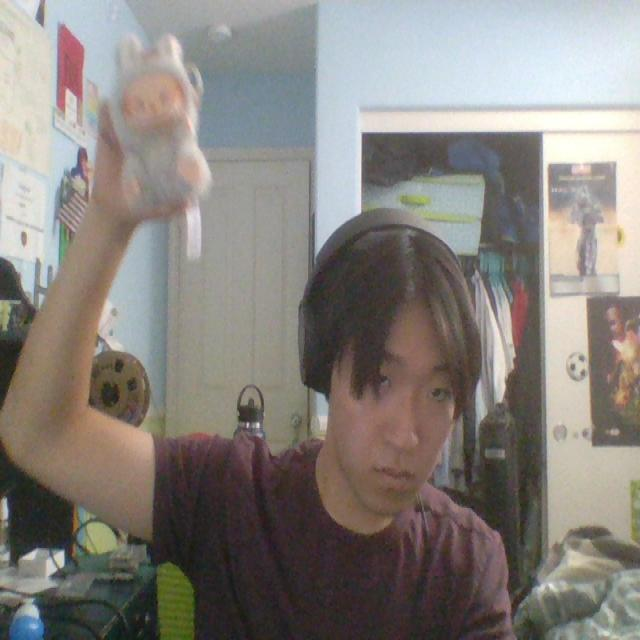labubu: (108, 35, 211, 257)
